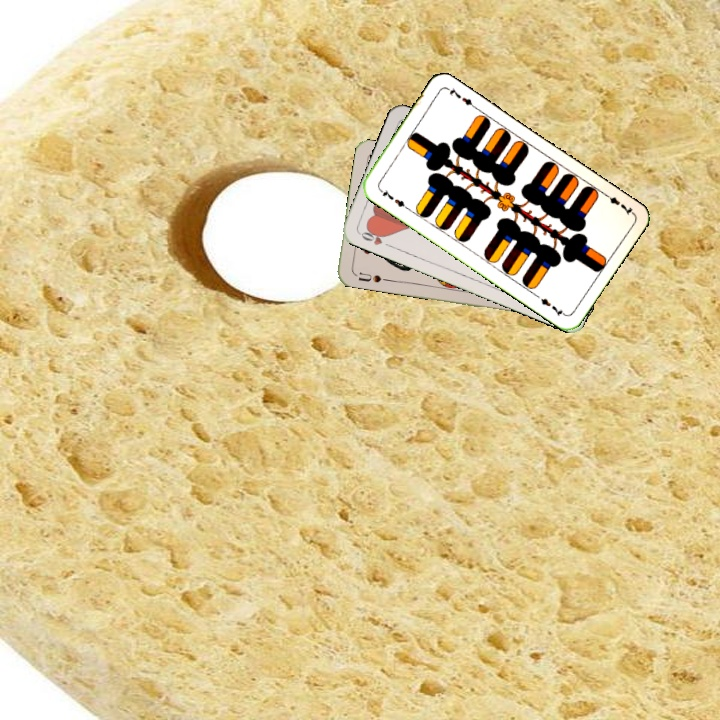E7: (599, 189, 635, 218), (375, 185, 411, 212)
HO: (356, 224, 394, 250)
SU: (354, 268, 384, 285)
